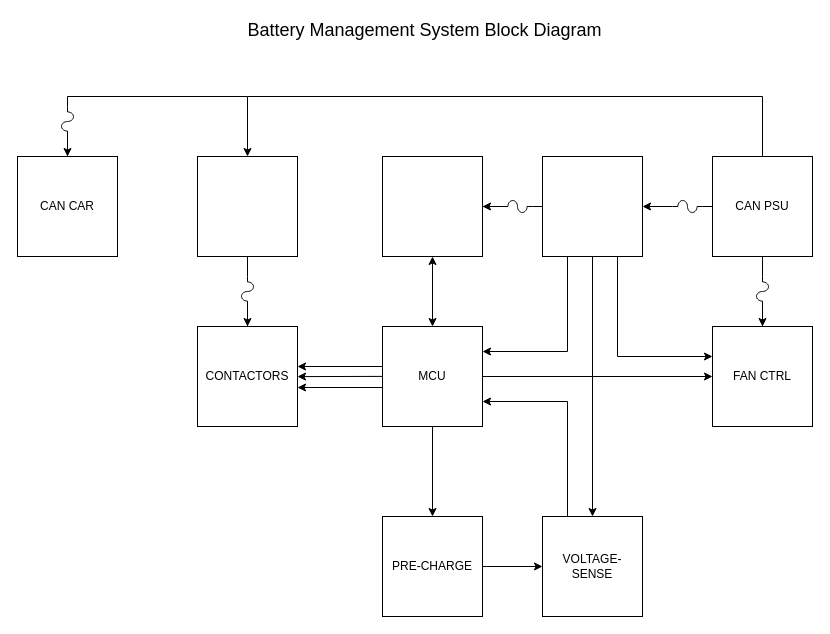
Some shapes in this 830 by 634 pixel diagram are drawn without their labels. Here are the shapes that lost their labels. From the top down, the box of each, then its label:
(196, 156, 298, 256): MUSH
(382, 156, 482, 256): USB
(542, 156, 642, 256): LOCAL PSU
